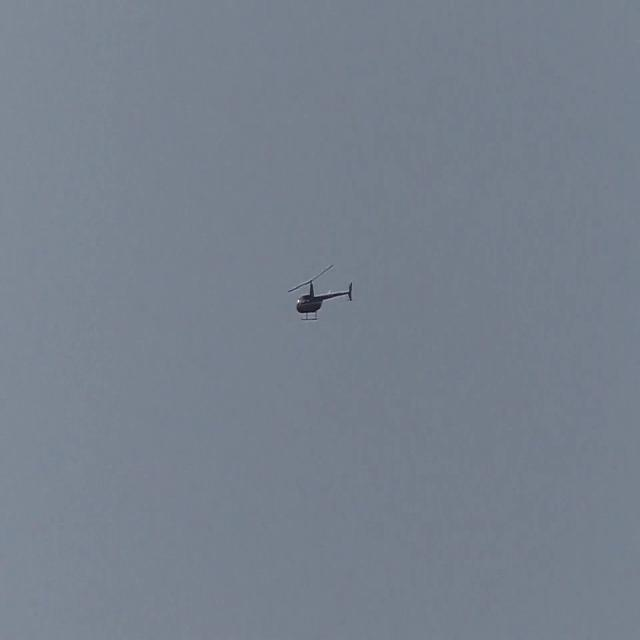CIV_HELO: (296, 278, 353, 321)
